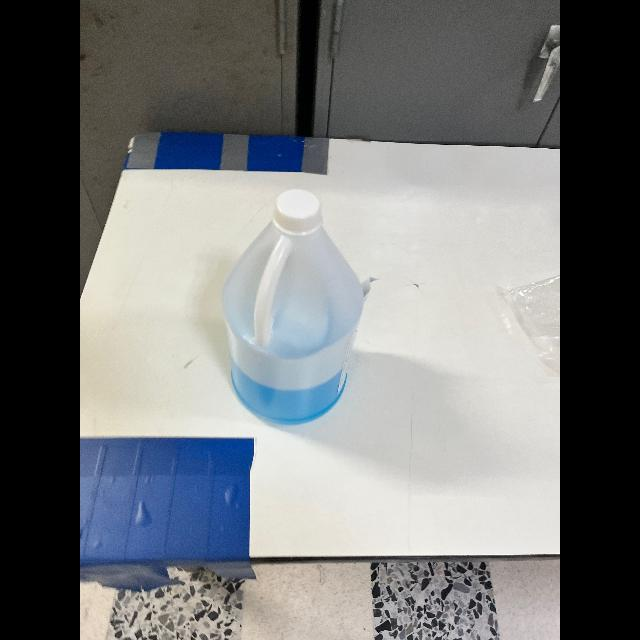chemical_plastic_gallon: (217, 188, 369, 420)
